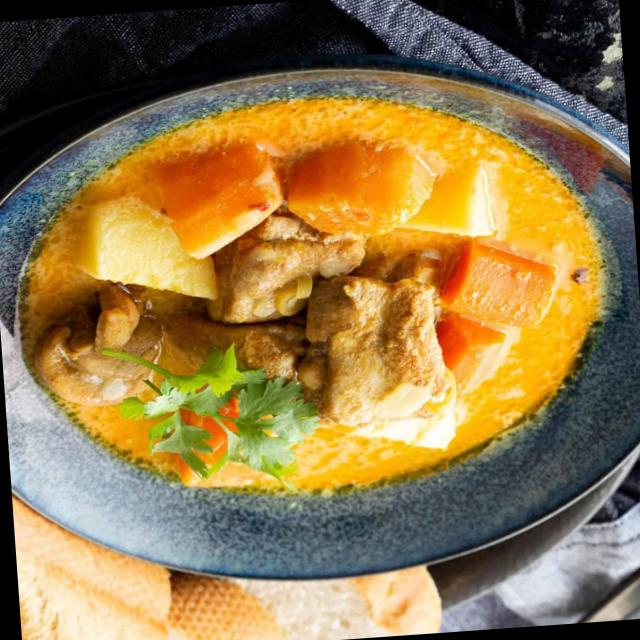chicken: (59, 102, 614, 473)
